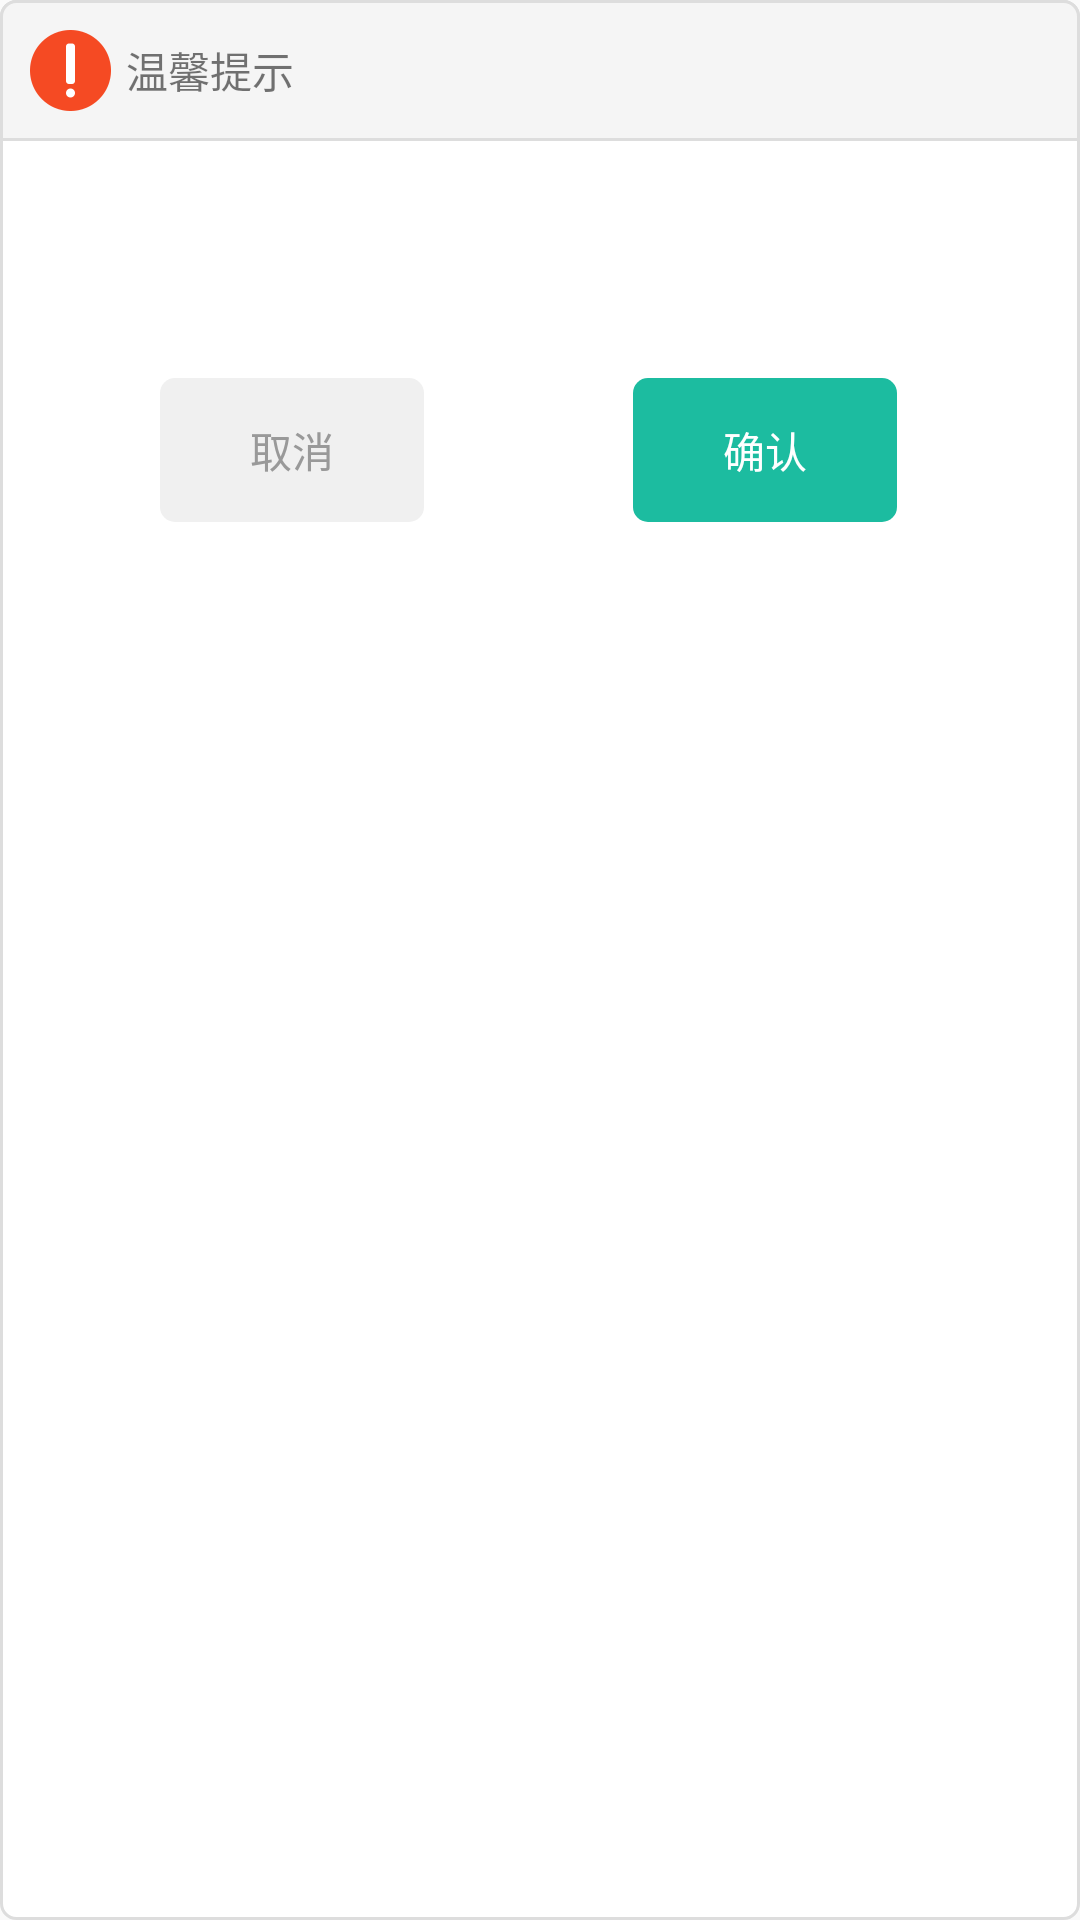

Named icons in this screenshot (1080×1920) and their centers, [x,y]:
open status prompt: [70,70]
